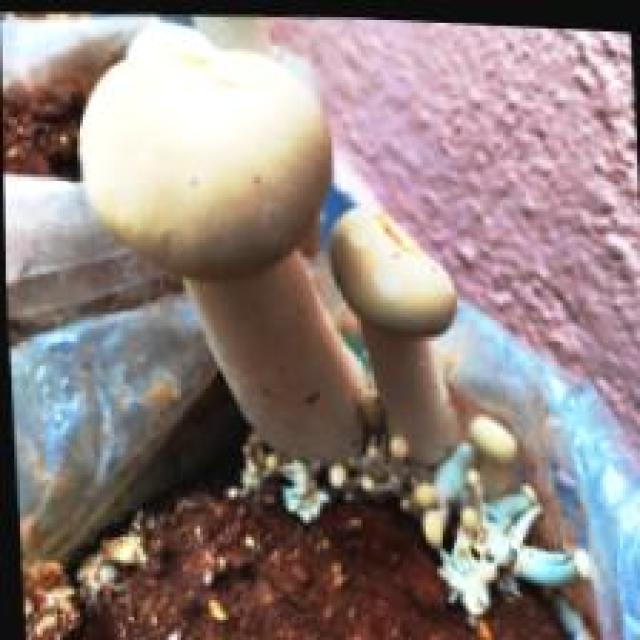death-cap: (75, 20, 332, 277)
field-mushroom: (74, 17, 377, 463)
